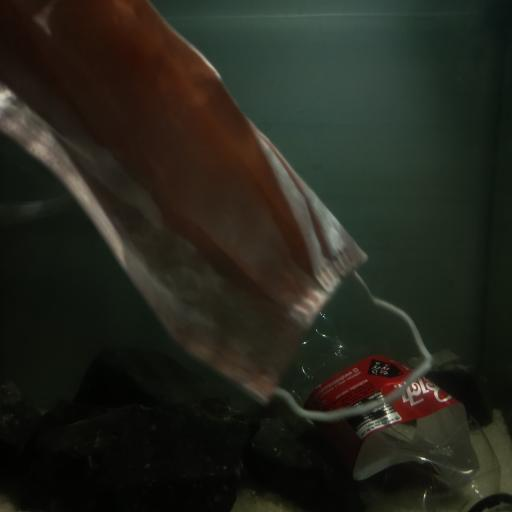mask: (1, 0, 438, 424)
plastic_bottle: (268, 309, 512, 512)
